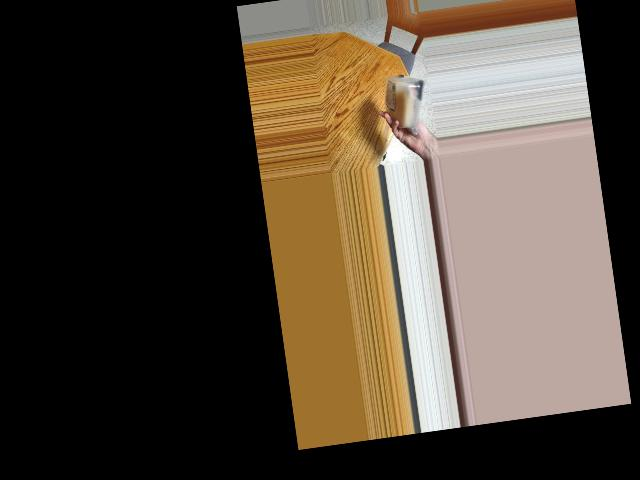cheese: (378, 69, 429, 132)
